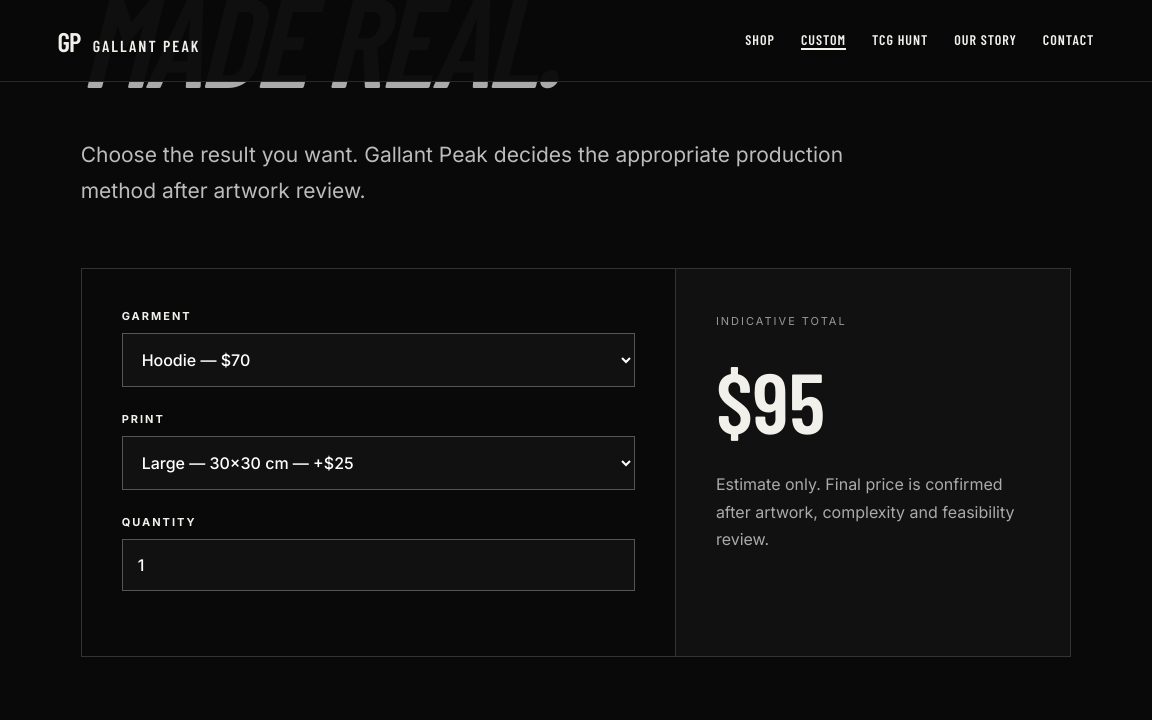
Test: Custom estimator › updates garment, print and quantity using the production price table
The image size is (1152, 720).
(page scrolled)
Select "T-shirt — $50" in the dropdown labelled "GARMENT" at (378, 360), box [122,333,635,387]
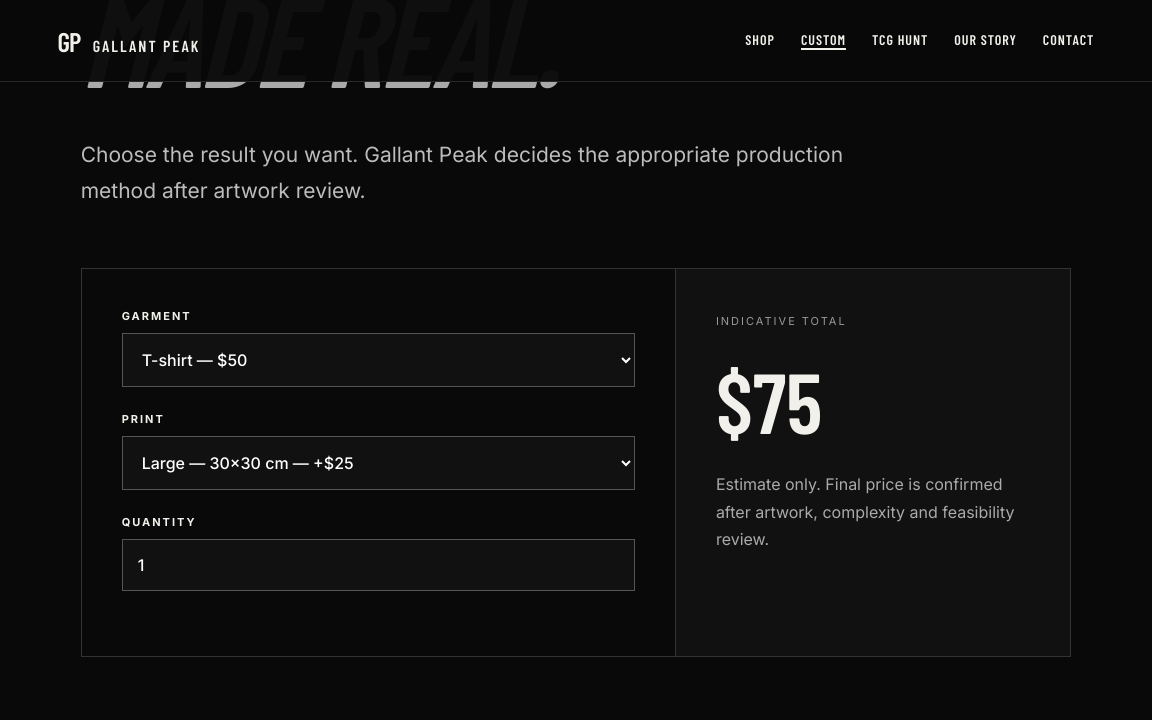
Select "Small — up to 10×10 cm — +$10" in the dropdown labelled "PRINT" at (378, 463), box [122,436,635,490]
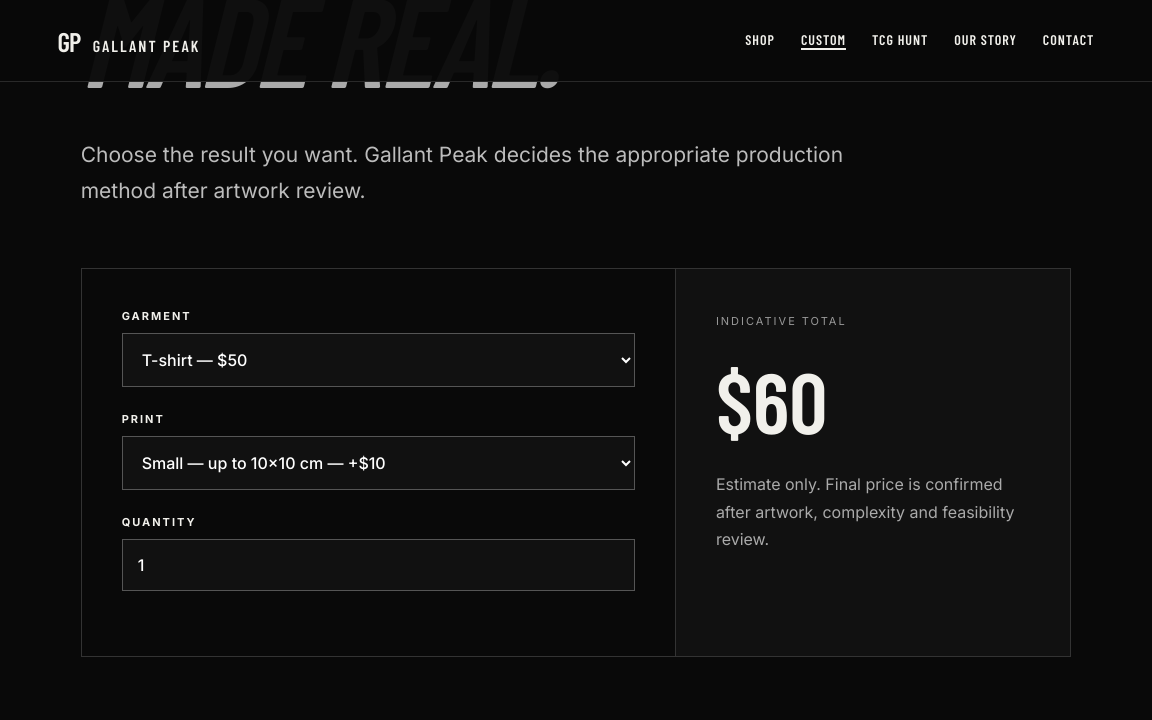
Replace the text in the number field labelled "QUANTITY" with "3" at (378, 565), box [122,539,635,591]
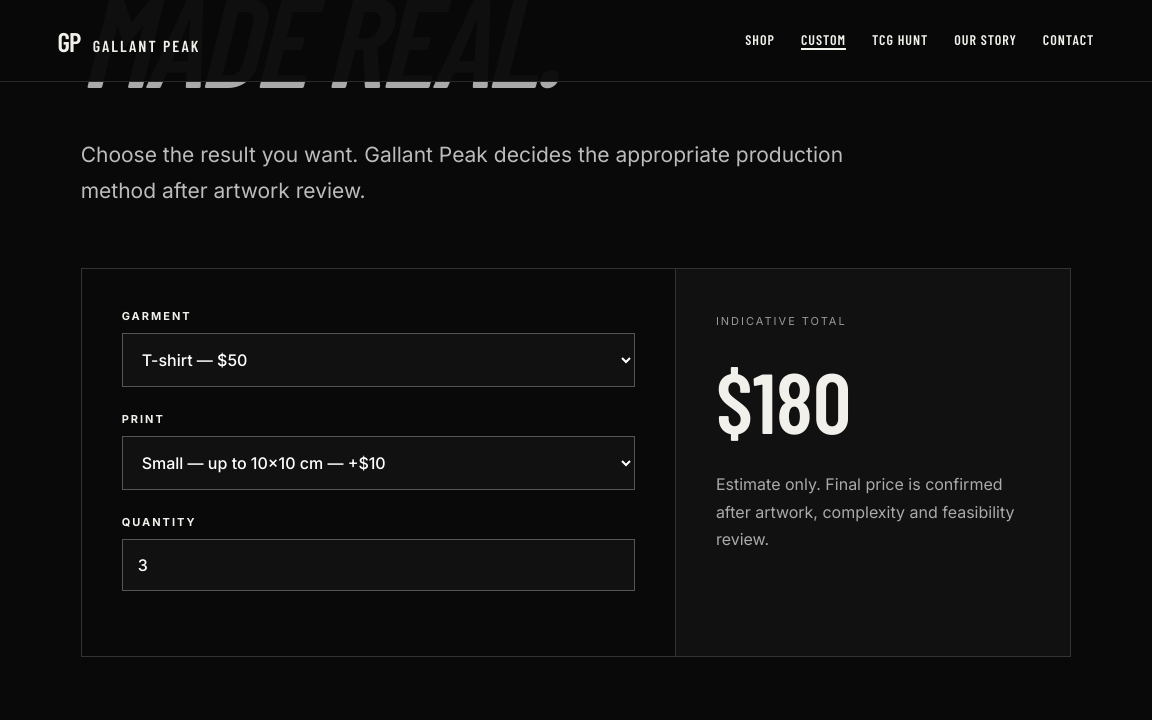
Expected: the text "$180" is shown, [716,349,851,451]
